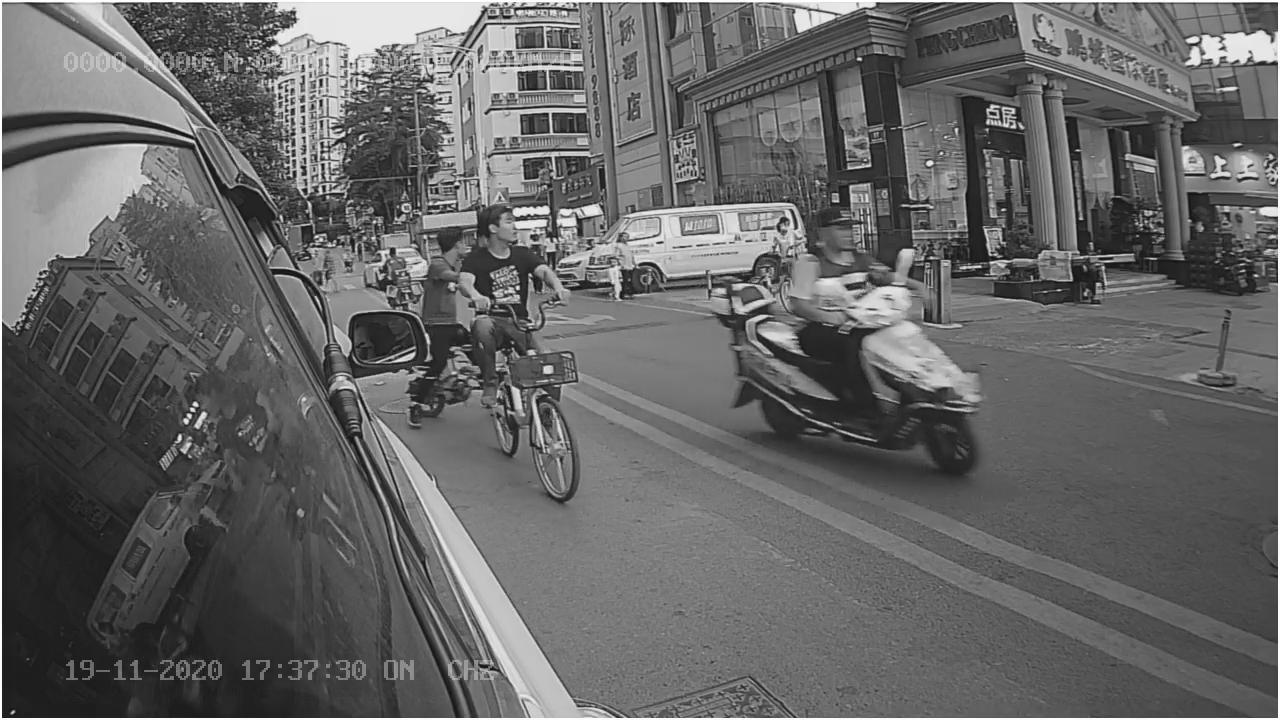person: (464, 202, 565, 308)
